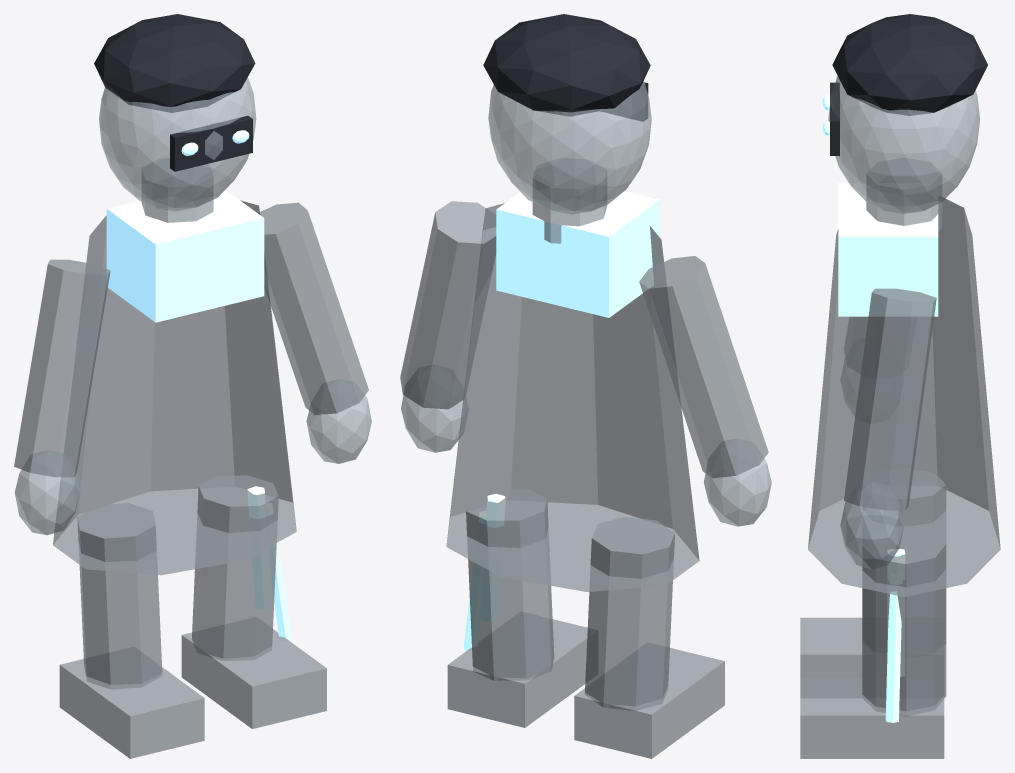
Rendered from ghost_joseph.glb.
The picture shows the model from 3 angles, left to right: view 1: azimuth 30°, elevation 25°; view 2: azimuth 150°, elevation 25°; view 3: azimuth 270°, elevation 25°; orthographic projection. The views are drawn at different scales.
Parts seen in each view (by area): view 1: ghost_garment, chest_detail, right_leg, left_leg, left_upper_arm, right_upper_arm, head, hair, left_shoe, right_shoe, left_hand, right_hand (+4 smaller); view 2: ghost_garment, chest_detail, left_leg, left_upper_arm, right_leg, head, right_upper_arm, hair, left_shoe, right_shoe, neck, left_hand (+4 smaller); view 3: ghost_garment, right_upper_arm, right_leg, head, hair, chest_detail, right_shoe, left_leg, left_shoe, neck, right_hand, hem_wisp (+4 smaller).
Part boxes in pixels (x1,y1,x2,y2): ghost_garment: (53,200,296,575); chest_detail: (106,182,264,322); right_leg: (192,475,278,660); left_leg: (77,503,162,688); left_upper_arm: (14,259,110,477); right_upper_arm: (258,202,368,415); head: (99,77,256,210); hair: (94,14,255,112); left_shoe: (59,647,204,758); right_shoe: (181,617,326,728); left_hand: (14,450,79,535); right_hand: (306,379,371,463); ghost_garment: (446,203,699,591); chest_detail: (496,183,659,317); left_leg: (585,517,674,710); left_upper_arm: (639,256,768,478); right_leg: (466,488,554,680); head: (488,81,651,213); right_upper_arm: (400,201,496,409); hair: (483,14,650,116); left_shoe: (574,643,724,758); right_shoe: (447,612,597,727); neck: (532,158,607,243); left_hand: (704,439,771,526); ghost_garment: (808,197,1000,596); right_upper_arm: (844,288,936,510); right_leg: (862,525,946,715); head: (828,76,980,213); hair: (832,14,987,115); chest_detail: (838,183,938,316); right_shoe: (800,678,944,758); left_leg: (862,468,946,657); left_shoe: (800,617,943,697); neck: (866,158,942,231); right_hand: (840,481,904,569); hem_wisp: (885,574,902,722).
Size of the model in its own units: 1.03 by 1.88 by 0.5011.
